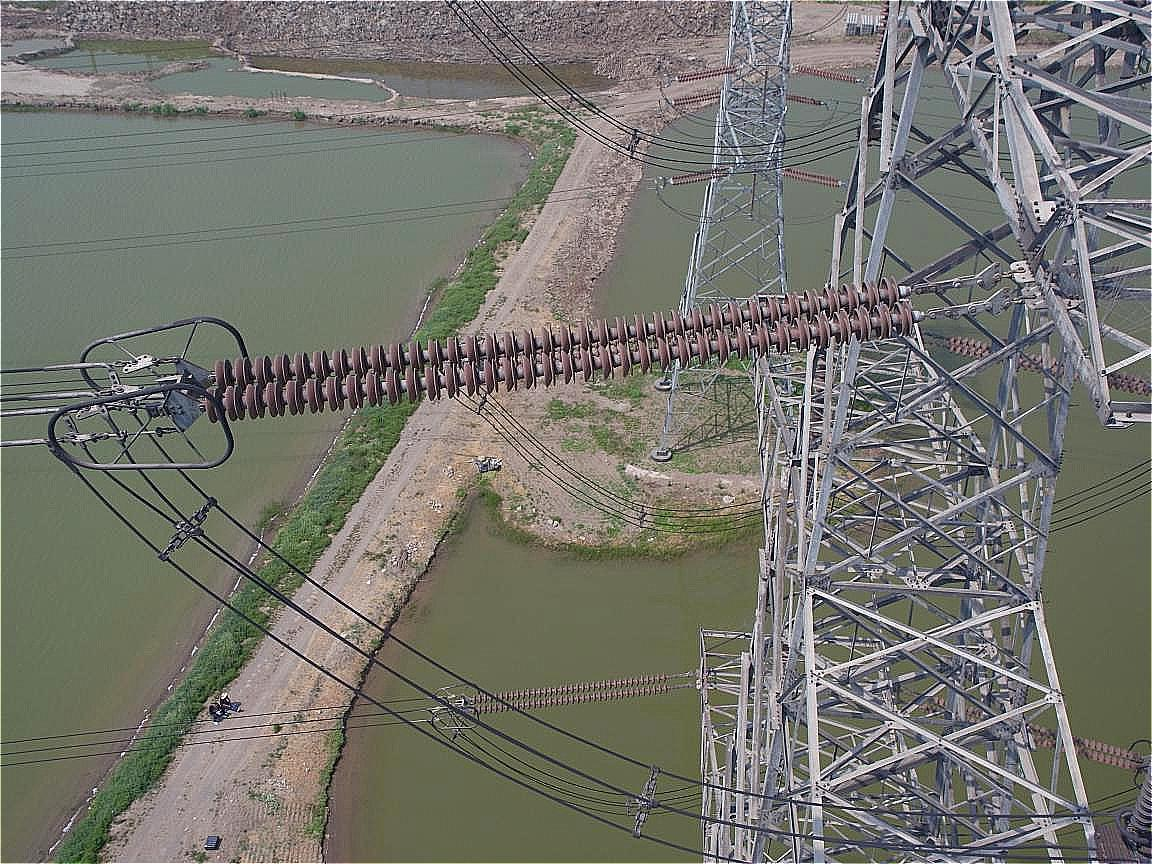insultor1: (464, 657, 677, 727)
insultor2: (185, 273, 921, 436)
